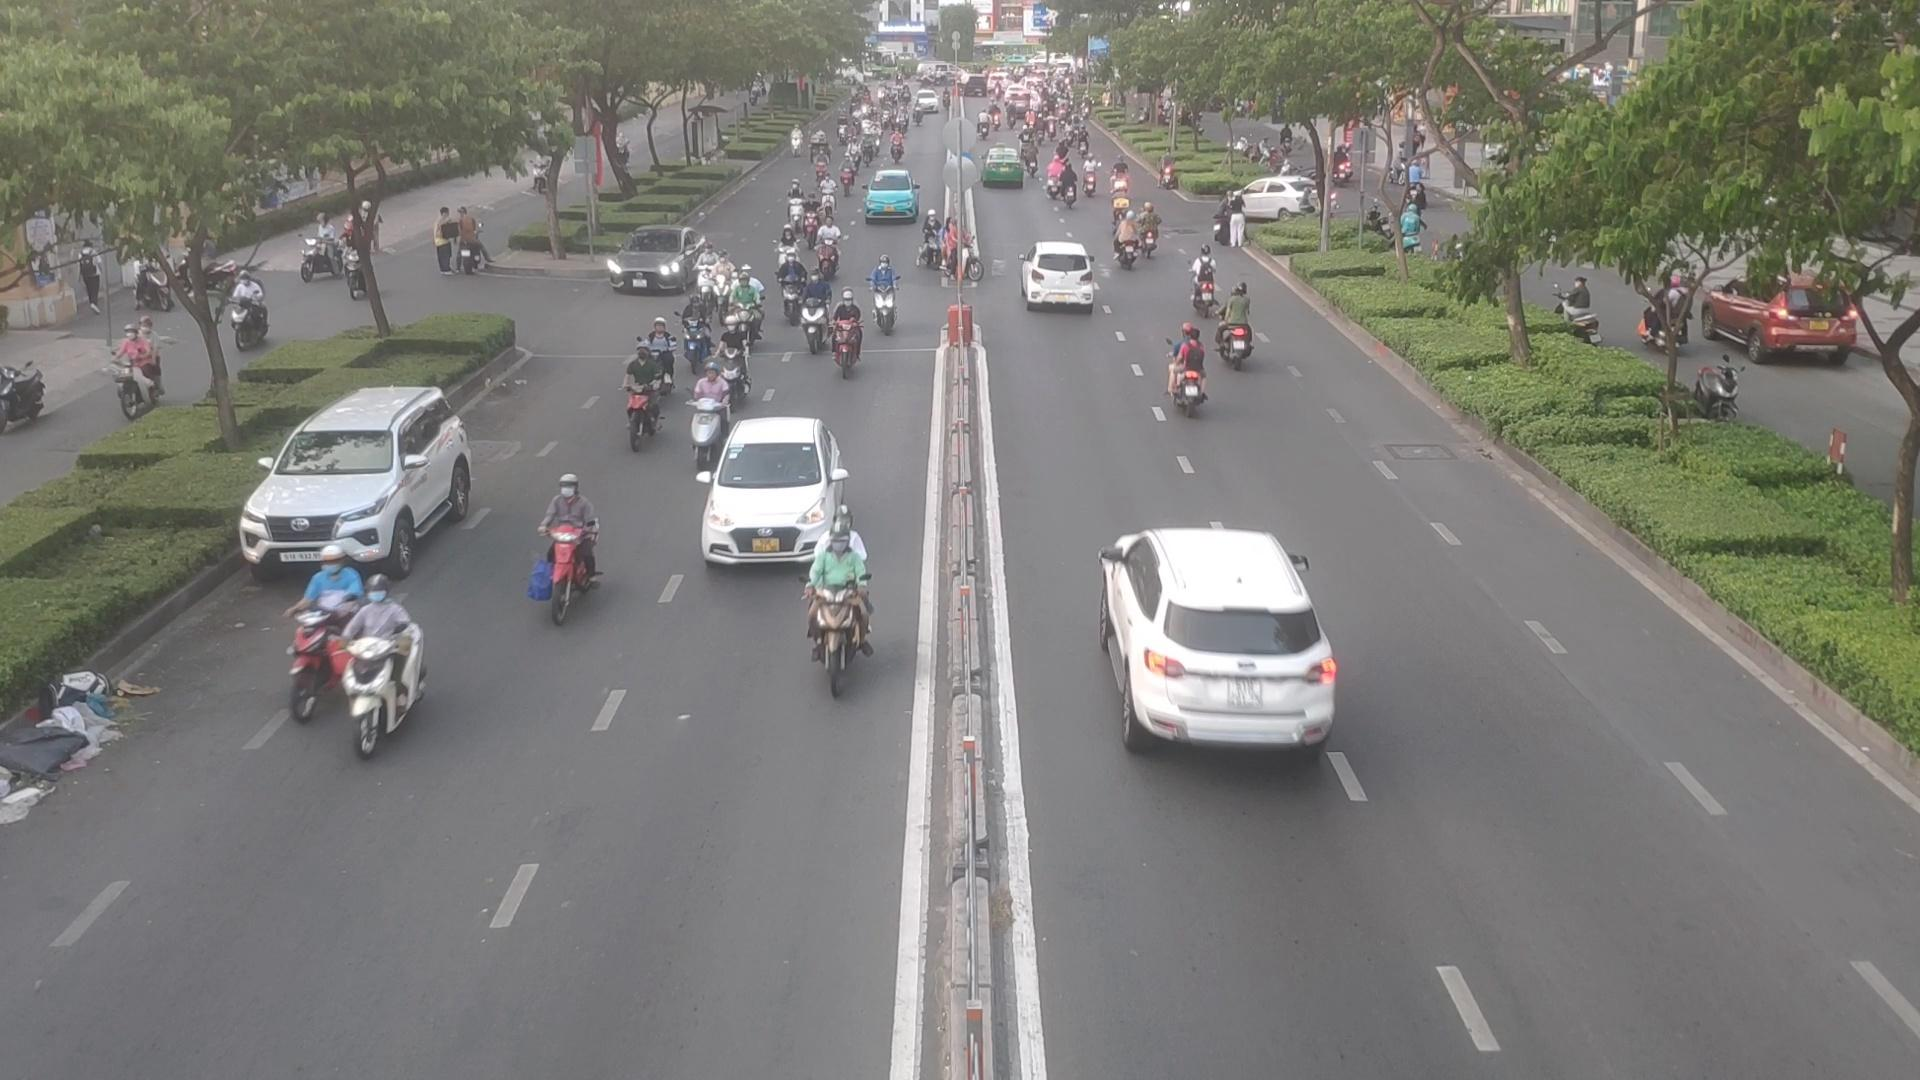car: (1092, 527, 1346, 753), (235, 385, 487, 574), (698, 418, 847, 568), (607, 228, 709, 297), (1022, 241, 1100, 314), (1226, 178, 1313, 224), (862, 170, 920, 225)
motorbike: (349, 568, 462, 790), (276, 543, 364, 723), (808, 516, 877, 696), (531, 488, 608, 611), (673, 365, 738, 481), (1159, 328, 1211, 419), (621, 347, 661, 450), (1218, 284, 1261, 377), (942, 218, 986, 295), (865, 260, 905, 338), (733, 261, 765, 352), (717, 319, 750, 404), (832, 289, 861, 375), (777, 251, 808, 324), (682, 293, 711, 369), (811, 216, 841, 280), (1191, 249, 1218, 315), (808, 272, 829, 357), (650, 314, 674, 389), (709, 251, 736, 311), (692, 236, 715, 301), (916, 215, 940, 272), (1114, 216, 1139, 269), (767, 222, 799, 262), (1139, 204, 1160, 260), (781, 183, 806, 225), (1077, 156, 1102, 198), (800, 200, 823, 247), (1112, 161, 1134, 198), (1106, 191, 1127, 225), (1059, 178, 1080, 211), (820, 175, 836, 218), (1044, 164, 1059, 196)
